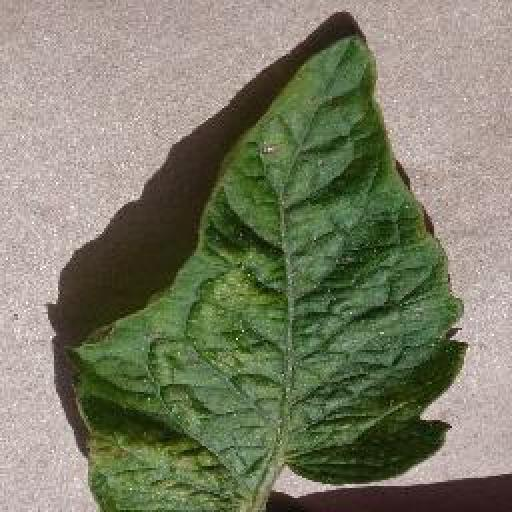disease_tomato: (68, 30, 466, 512)
